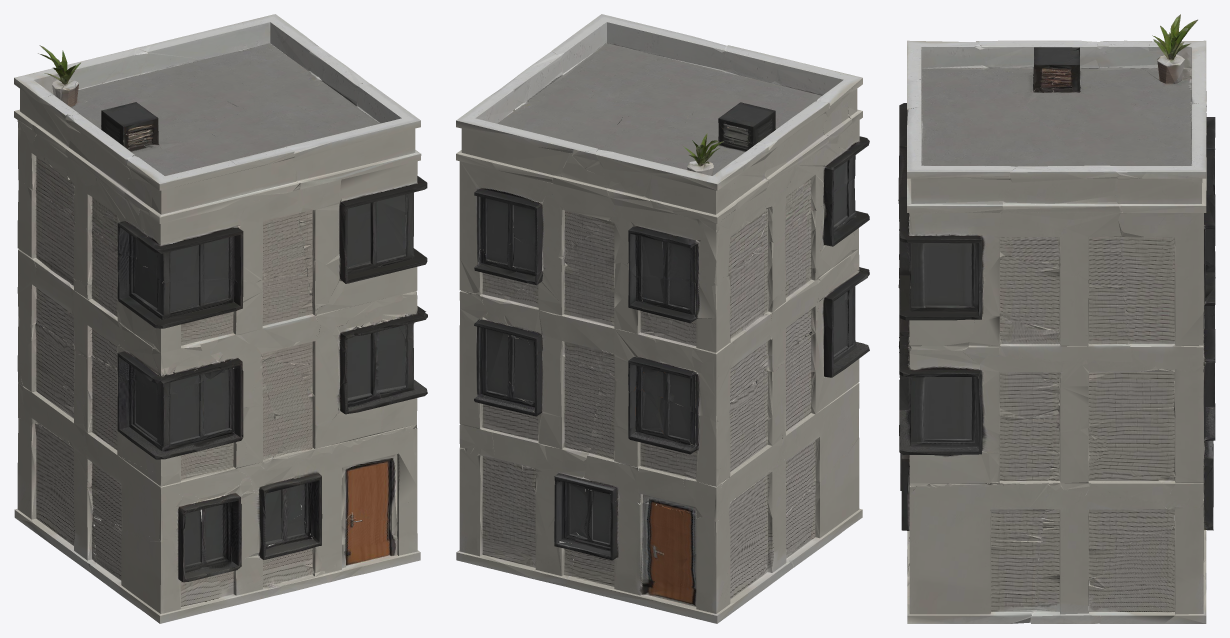
File: JHB_HeroBuilding05_LOD1.fbx
The picture shows the model from 3 angles, left to right: view 1: azimuth 30°, elevation 25°; view 2: azimuth 150°, elevation 25°; view 3: azimuth 270°, elevation 25°; orthographic projection. The views are drawn at different scales.
Visible parts, largest first — view 1: JHB_HeroBuilding05_LOD1; view 2: JHB_HeroBuilding05_LOD1; view 3: JHB_HeroBuilding05_LOD1.
Part boxes in pixels (x1,y1,x2,y2): JHB_HeroBuilding05_LOD1: (14, 14, 427, 623); JHB_HeroBuilding05_LOD1: (456, 14, 869, 623); JHB_HeroBuilding05_LOD1: (898, 14, 1215, 623).
Bounding box in the file's own units: 10.98 × 18 × 10.68.
